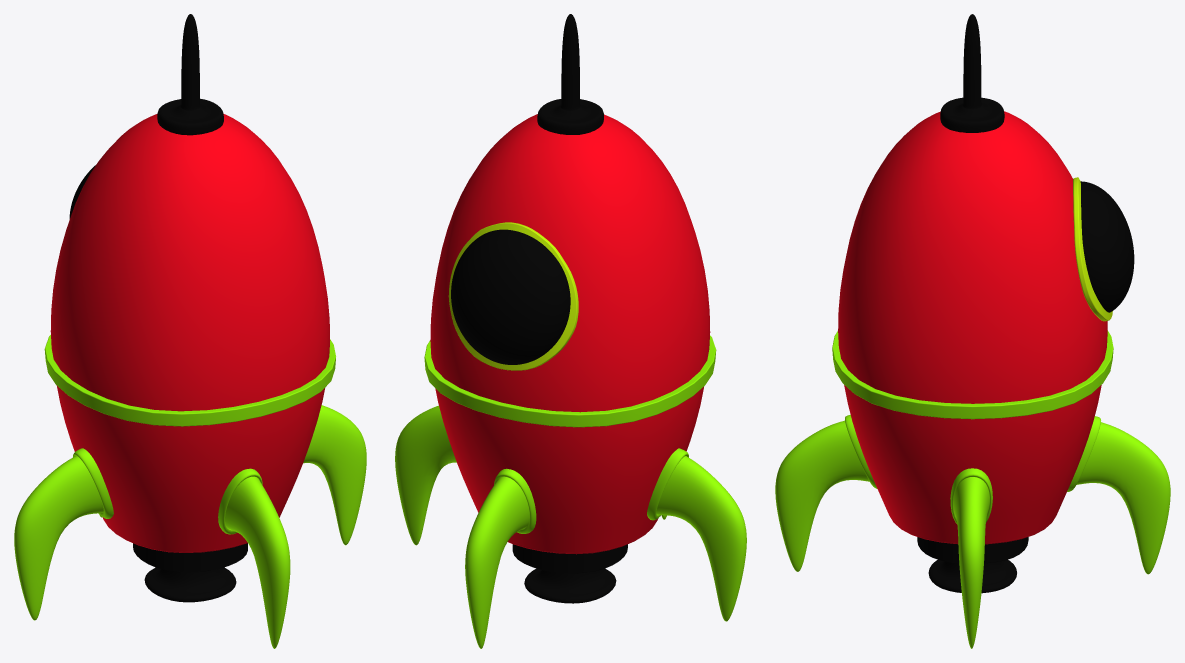
File: rocket.fbx
3 renders of one model, left to right at view 1: azimuth 30°, elevation 25°; view 2: azimuth 150°, elevation 25°; view 3: azimuth 270°, elevation 25°, orthographic.
Visible parts, largest first — view 1: Cube, Cube.005, Cube.004, Circle.001, Cube.003, Cube.002, Cube.001; view 2: Cube, Sphere, Cube.005, Cube.006, Circle.001, Cube.003, Cube.002, Cube.001, Circle; view 3: Cube, Cube.006, Cube.004, Sphere, Circle.001, Cube.003, Cube.001, Cube.002, Circle.
Boxes of the visible parts, x1,y1,x2,y2 form: Cube: [50, 113, 330, 552]; Cube.005: [14, 448, 113, 620]; Cube.004: [218, 468, 290, 648]; Circle.001: [44, 335, 335, 426]; Cube.003: [303, 405, 366, 545]; Cube.002: [133, 543, 247, 602]; Cube.001: [157, 14, 223, 135]; Cube: [430, 114, 710, 554]; Sphere: [451, 229, 570, 364]; Cube.005: [647, 448, 746, 621]; Cube.006: [465, 468, 536, 648]; Circle.001: [424, 335, 716, 427]; Cube.003: [395, 405, 456, 545]; Cube.002: [512, 544, 627, 603]; Cube.001: [537, 14, 603, 134]; Circle: [448, 222, 578, 370]; Cube: [838, 111, 1107, 544]; Cube.006: [1067, 416, 1170, 574]; Cube.004: [775, 414, 877, 571]; Sphere: [1080, 181, 1134, 312]; Circle.001: [832, 330, 1113, 419]; Cube.003: [950, 468, 992, 648]; Cube.001: [940, 14, 1004, 132]; Cube.002: [917, 537, 1028, 593]; Circle: [1073, 177, 1112, 321].
Bounding box in the file's own units: 3.27 × 5.11 × 3.25.
